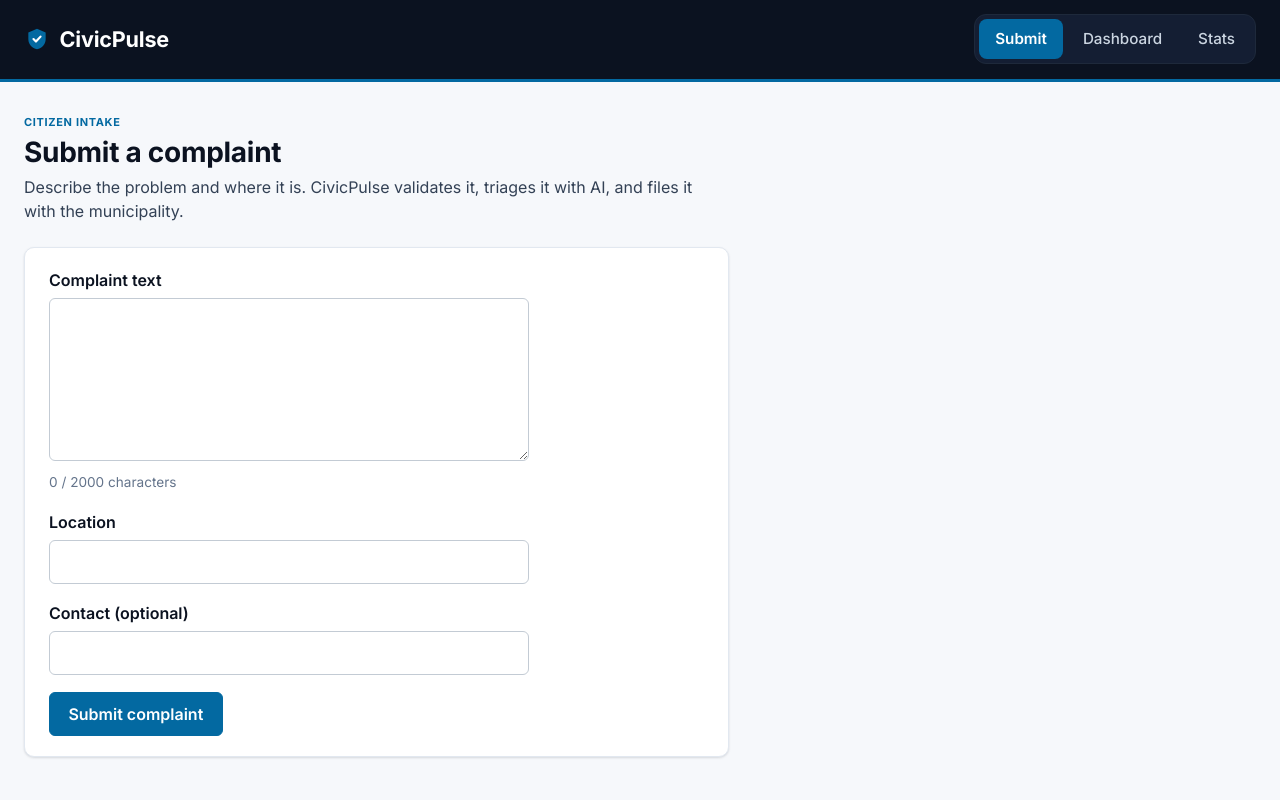
App navigation › switches between Submit, Dashboard and Stats views
The image size is (1280, 800).
Expected: the heading "Submit a complaint" is shown, 24,135 -> 281,169
Click the button "Dashboard" at (1122, 39), box 1067,19 -> 1178,59
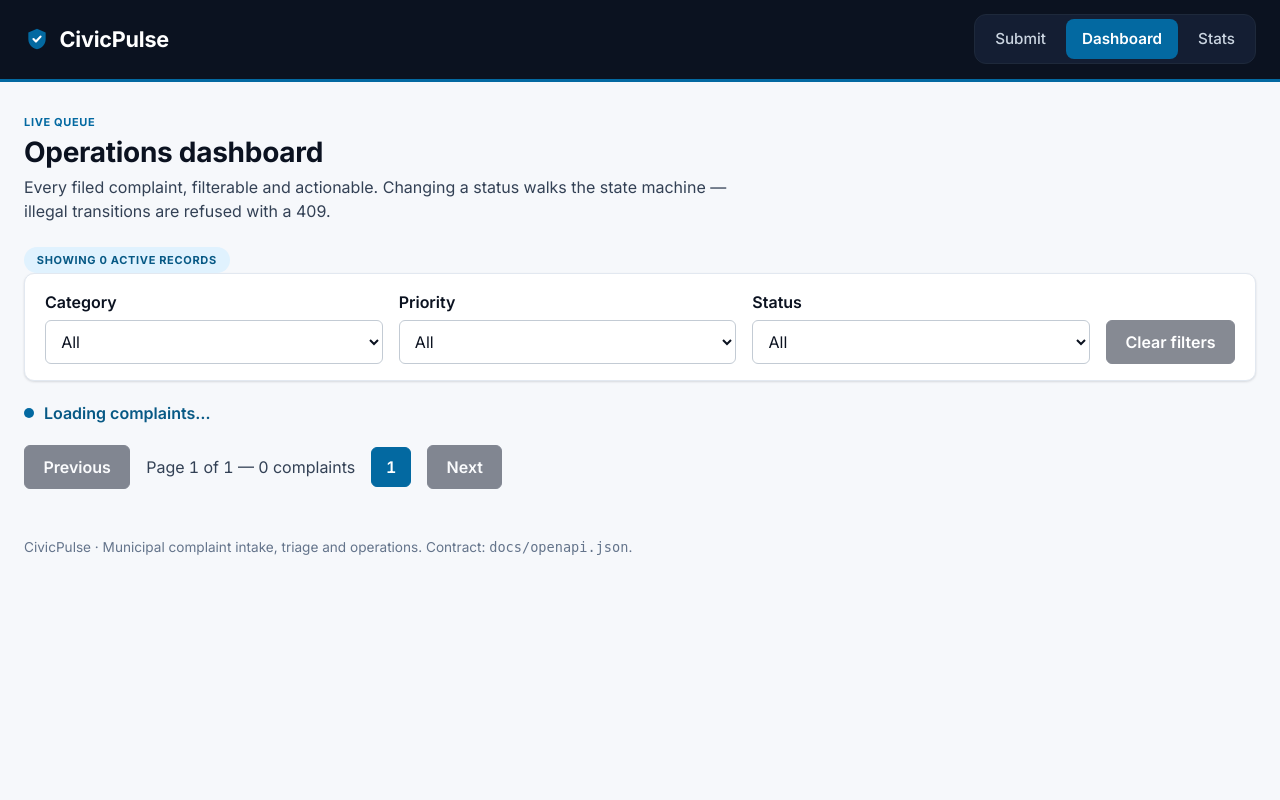
Expected: the heading "Operations dashboard" is shown, 24,135 -> 323,169
Click the button "Stats" at (1217, 39), box 1182,19 -> 1251,59
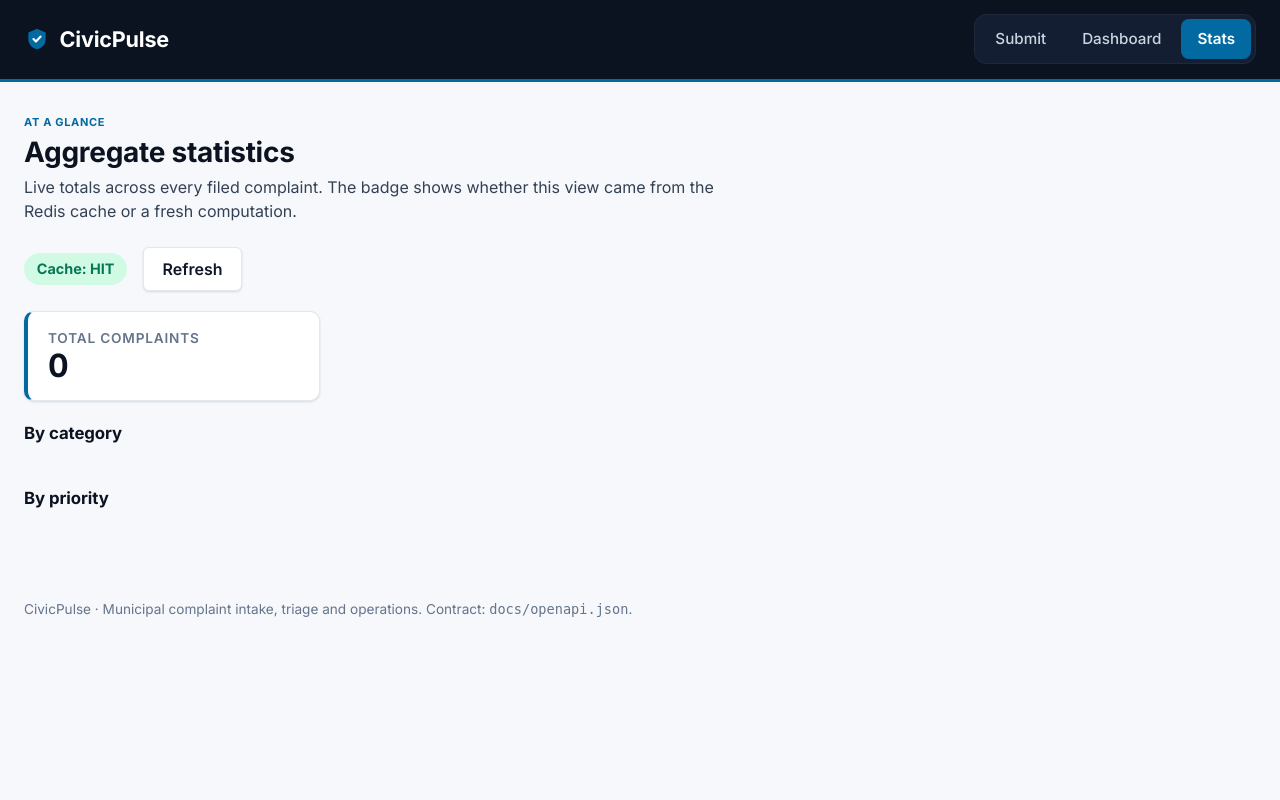
Expected: the text with test id "stats-total" reads "0", 48,346 -> 68,386
Expected: the text with test id "cache-badge" reads "Cache: HIT", 24,254 -> 127,285
